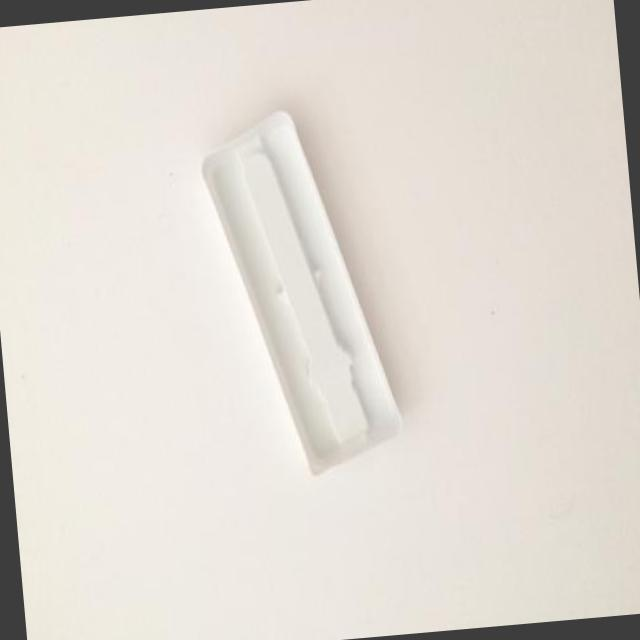Trash: (192, 96, 412, 488)
